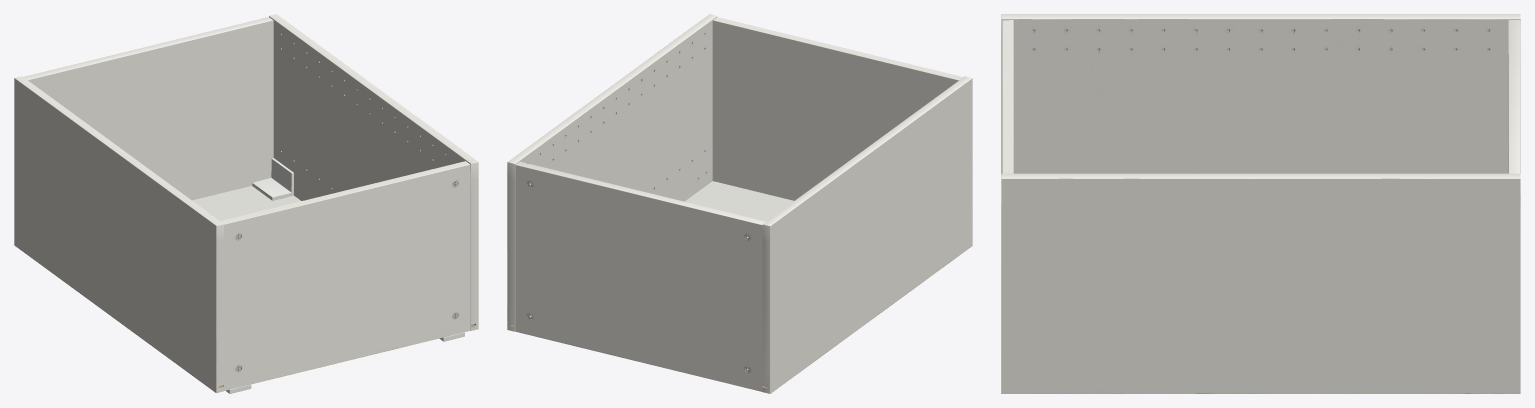
Rendered from kitchen_wall_cabinet_30205528.glb.
3 views of the same model, side by side, from view 1: azimuth 30°, elevation 25°; view 2: azimuth 150°, elevation 25°; view 3: azimuth 270°, elevation 25° (orthographic). The views are drawn at different scales.
Parts seen in each view (by area): view 1: 30205528-METOD001; view 2: 30205528-METOD001; view 3: 30205528-METOD001.
Part boxes in pixels (x1,y1,x2,y2): 30205528-METOD001: (14, 14, 478, 393); 30205528-METOD001: (507, 14, 972, 393); 30205528-METOD001: (1001, 14, 1520, 393).
Size of the model in its own units: 0.6 by 0.376 by 0.8.
1 material, 1 textured.
